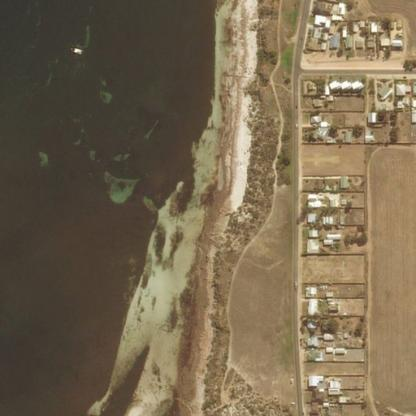ship: (63, 40, 88, 58)
